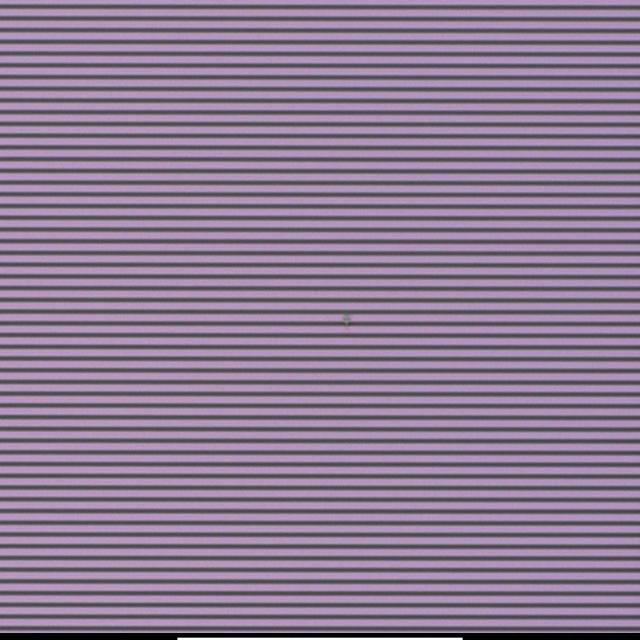03_intrusion: (340, 312, 353, 325)
